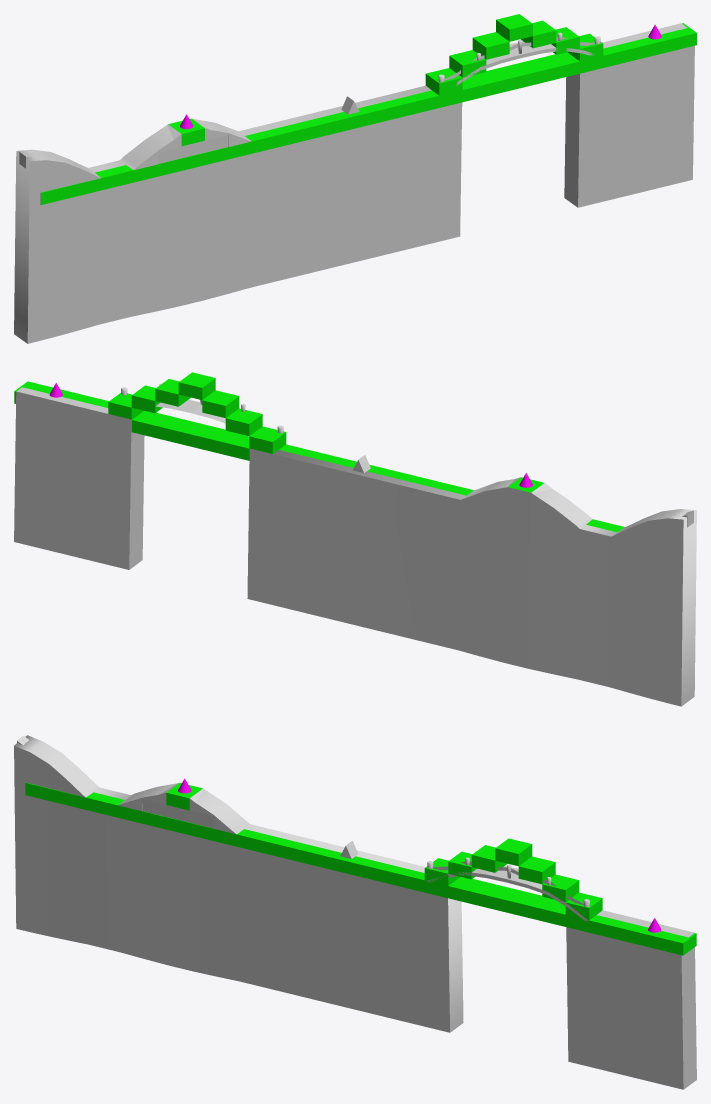
File: M_TestEnviroment.glb
The picture shows the model from 3 angles, top to bottom: view 1: azimuth 30°, elevation 25°; view 2: azimuth 150°, elevation 25°; view 3: azimuth 330°, elevation 25°; orthographic projection.
Parts seen in each view (by area): view 1: Cube.003, Blockout, Cube.001; view 2: Cube.003, Blockout; view 3: Cube.003, Blockout, Cube.001.
Part boxes in pixels (x1,y1,x2,y2): Cube.003: [14, 23, 694, 343]; Blockout: [19, 14, 696, 204]; Cube.001: [456, 41, 594, 85]; Cube.003: [14, 387, 696, 706]; Blockout: [14, 372, 693, 532]; Cube.003: [14, 735, 696, 1089]; Blockout: [17, 735, 696, 955]; Cube.001: [425, 866, 588, 921].
Size of the model in its own units: 57 by 16.24 by 2.33.
